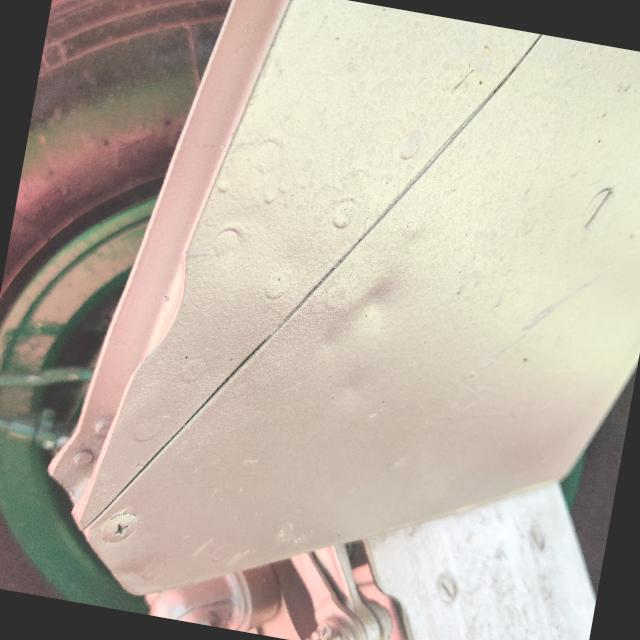dent: (307, 255, 408, 368)
